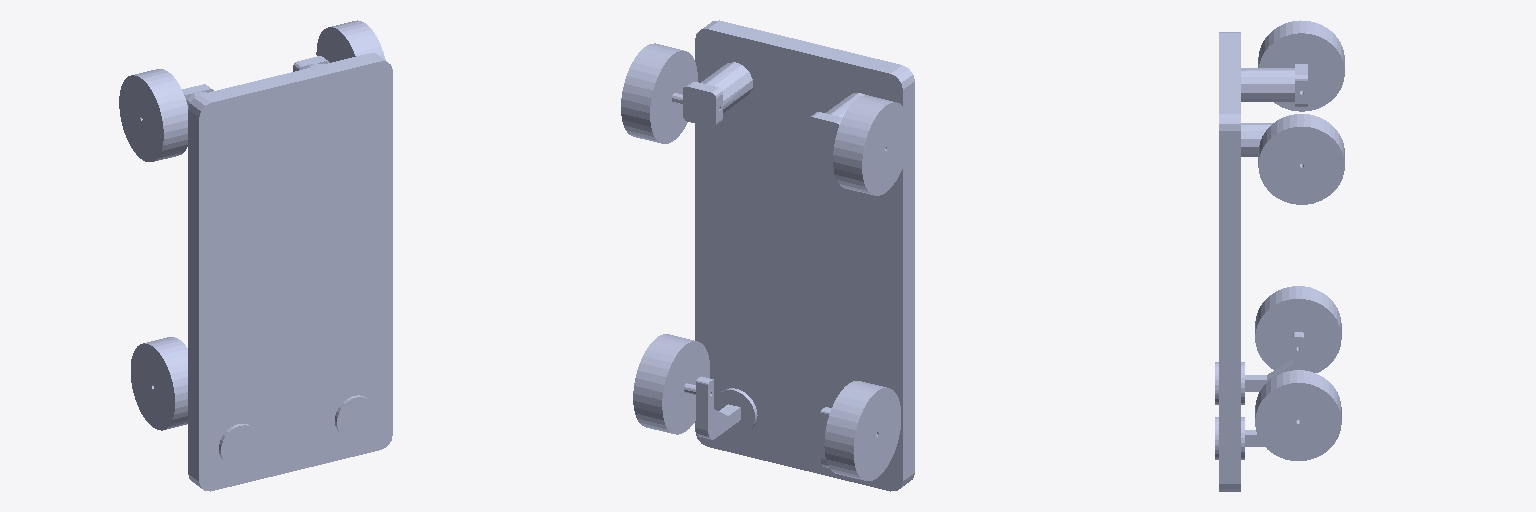
URDF robot description (robot_1):
<?xml version="1.0" encoding="utf-8"?>
<!-- This URDF was automatically created by SolidWorks to URDF Exporter! Originally created by [author] ([email redacted]) 
     Commit Version: 1.6.0-1-g15f4949  Build Version: 1.6.7594.29634
     For more information, please see http://wiki.ros.org/sw_urdf_exporter -->
<robot
  name="robot_1">
  <link name = "dummy_link" />
  <joint 
    name = "dummy_link_to_base_link" 
    type = "fixed">
    <parent link ="dummy_link"/>
    <child link="base_link" />
  </joint>
    
  <transmission name="steer_left">
    <type>transmission_interface/SimpleTransmission</type>
    <joint name="steer_left">
      <hardwareInterface>hardware_interface/EffortJointInterface</hardwareInterface>
    </joint>
      <actuator name="rear_left_actuator">
        <mechanicalReduction>1</mechanicalReduction>
        <hardwareInterface>hardware_interface/EffortJointInterface</hardwareInterface>
      </actuator>
  </transmission>
     
  <transmission name="steer_right">
    <type>transmission_interface/SimpleTransmission</type>
    <joint name="steer_right">
      <hardwareInterface>hardware_interface/EffortJointInterface</hardwareInterface>
    </joint>
    <actuator name="rear_right_actuator">
      <mechanicalReduction>1</mechanicalReduction>
      <hardwareInterface>hardware_interface/EffortJointInterface</hardwareInterface>
    </actuator>
  </transmission>
  
  
  <transmission name="rear_left">
    <type>transmission_interface/SimpleTransmission</type>
    <joint name="rotary_left">
      <hardwareInterface>hardware_interface/VelocityJointInterface</hardwareInterface>
    </joint>
      <actuator name="rotary_left_actuator">
        <mechanicalReduction>1</mechanicalReduction>
        <hardwareInterface>hardware_interface/VelocityJointInterface</hardwareInterface>
      </actuator>
  </transmission>
     
  <transmission name="rear_right">
    <type>transmission_interface/SimpleTransmission</type>
    <joint name="rotary_right">
      <hardwareInterface>hardware_interface/VelocityJointInterface</hardwareInterface>
    </joint>
      <actuator name="rotary_right_actuator">
        <mechanicalReduction>1</mechanicalReduction>
        <hardwareInterface>hardware_interface/VelocityJointInterface</hardwareInterface>
      </actuator>
  </transmission>
  
   
  <link
    name="base_link">
    <inertial>
      <origin
        xyz="0.0106243866569402 0.0852521272408004 -0.0317866920082924"
        rpy="0 0 0" />
      <mass
        value="25.0805554983238" />
      <inertia
        ixx="1.99562741974796"
        ixy="9.25360912925372E-16"
        ixz="-6.7823571365805E-17"
        iyy="0.548344997724626"
        iyz="0.0592023746088173"
        izz="2.49405185003044" />
    </inertial>
    <visual>
      <origin
        xyz="0 0 0"
        rpy="0 0 0" />
      <geometry>
        <mesh
          filename="package://robot_1/meshes/base_link.STL" />
      </geometry>
      <material
        name="">
        <color
          rgba="0.792156862745098 0.819607843137255 0.933333333333333 1" />
      </material>
    </visual>
    <collision>
      <origin
        xyz="0 0 0"
        rpy="0 0 0" />
      <geometry>
        <mesh
          filename="package://robot_1/meshes/base_link.STL" />
      </geometry>
    </collision>
  </link>
  <link
    name="rear_left">
    <inertial>
      <origin
        xyz="8.32667268468867E-17 -4.44089209850063E-16 0.0648394004282658"
        rpy="0 0 0" />
      <mass
        value="2.20068565383965" />
      <inertia
        ixx="0.00641184548810948"
        ixy="0"
        ixz="3.64420249209196E-19"
        iyy="0.00641184548810948"
        iyz="-5.25481092951005E-18"
        izz="0.0109959473516919" />
    </inertial>
    <visual>
      <origin
        xyz="0 0 0"
        rpy="0 0 0" />
      <geometry>
        <mesh
          filename="package://robot_1/meshes/rear_left.STL" />
      </geometry>
      <material
        name="">
        <color
          rgba="0.792156862745098 0.819607843137255 0.933333333333333 1" />
      </material>
    </visual>
    <collision>
      <origin
        xyz="0 0 0"
        rpy="0 0 0" />
      <geometry>
        <mesh
          filename="package://robot_1/meshes/rear_left.STL" />
      </geometry>
    </collision>
  </link>
  <joint
    name="rotary_left"
    type="revolute">
    <origin
      xyz="-0.17938 0.19 0.43306"
      rpy="1.5708 0.11294 -1.5708" />
    <parent
      link="base_link" />
    <child
      link="rear_left" />
    <axis
      xyz="0 0 1" />
    <limit
      lower="-1000000"
      upper="1000000"
      effort="10"
      velocity="100" />
  </joint>
  <link
    name="rear_right">
    <inertial>
      <origin
        xyz="0 0 0.0648394004282658"
        rpy="0 0 0" />
      <mass
        value="2.20068565383965" />
      <inertia
        ixx="0.00641184548810948"
        ixy="-5.42101086242752E-19"
        ixz="-4.7252406288901E-18"
        iyy="0.00641184548810948"
        iyz="1.328849025911E-18"
        izz="0.0109959473516919" />
    </inertial>
    <visual>
      <origin
        xyz="0 0 0"
        rpy="0 0 0" />
      <geometry>
        <mesh
          filename="package://robot_1/meshes/rear_right.STL" />
      </geometry>
      <material
        name="">
        <color
          rgba="0.792156862745098 0.819607843137255 0.933333333333333 1" />
      </material>
    </visual>
    <collision>
      <origin
        xyz="0 0 0"
        rpy="0 0 0" />
      <geometry>
        <mesh
          filename="package://robot_1/meshes/rear_right.STL" />
      </geometry>
    </collision>
  </link>
  <joint
    name="rotary_right"
    type="revolute">
    <origin
      xyz="0.20062 0.19 0.43306"
      rpy="1.5708 1.2919 1.5708" />
    <parent
      link="base_link" />
    <child
      link="rear_right" />
    <axis
      xyz="0 0 1" />
    <limit
      lower="-1000000"
      upper="1000000"
      effort="10"
      velocity="100" />
  </joint>
  <link
    name="vertical_left">
    <inertial>
      <origin
        xyz="0 0.0102813138093797 0.0696600330079089"
        rpy="0 0 0" />
      <mass
        value="0.639934698133308" />
      <inertia
        ixx="0.00341195149379141"
        ixy="-4.09553293302807E-19"
        ixz="-4.93655903399071E-19"
        iyy="0.00299511296011922"
        iyz="-0.000711836821973023"
        izz="0.00084897915232629" />
    </inertial>
    <visual>
      <origin
        xyz="0 0 0"
        rpy="0 0 0" />
      <geometry>
        <mesh
          filename="package://robot_1/meshes/vertical_left.STL" />
      </geometry>
      <material
        name="">
        <color
          rgba="0.792156862745098 0.819607843137255 0.933333333333333 1" />
      </material>
    </visual>
    <collision>
      <origin
        xyz="0 0 0"
        rpy="0 0 0" />
      <geometry>
        <mesh
          filename="package://robot_1/meshes/vertical_left.STL" />
      </geometry>
    </collision>
  </link>
  <joint
    name="steer_left"
    type="revolute">
    <origin
      xyz="-0.13938 0 -0.32694"
      rpy="1.5708 0 3.1416" />
    <parent
      link="base_link" />
    <child
      link="vertical_left" />
    <axis
      xyz="0 0 1" />
    <limit
      lower="-0.785398"
      upper="0.785398"
      effort="10"
      velocity="100" />
  </joint>
  <link
    name="front_left">
    <inertial>
      <origin
        xyz="1.11022302462516E-16 1.11022302462516E-16 0.0648394004282658"
        rpy="0 0 0" />
      <mass
        value="2.20068565383965" />
      <inertia
        ixx="0.00641184548810947"
        ixy="4.33680868994202E-19"
        ixz="1.85547375152391E-18"
        iyy="0.00641184548810947"
        iyz="3.22474202483583E-18"
        izz="0.0109959473516919" />
    </inertial>
    <visual>
      <origin
        xyz="0 0 0"
        rpy="0 0 0" />
      <geometry>
        <mesh
          filename="package://robot_1/meshes/front_left.STL" />
      </geometry>
      <material
        name="">
        <color
          rgba="0.792156862745098 0.819607843137255 0.933333333333333 1" />
      </material>
    </visual>
    <collision>
      <origin
        xyz="0 0 0"
        rpy="0 0 0" />
      <geometry>
        <mesh
          filename="package://robot_1/meshes/front_left.STL" />
      </geometry>
    </collision>
  </link>
  <joint
    name="castor_left"
    type="revolute">
    <origin
      xyz="0.015 0.095 0.1825"
      rpy="-1.5708 -1.0471 -1.5708" />
    <parent
      link="vertical_left" />
    <child
      link="front_left" />
    <axis
      xyz="0 0 1" />
    <limit
      lower="-100000"
      upper="100000"
      effort="10"
      velocity="100" />
  </joint>
  <link
    name="vertical_right">
    <inertial>
      <origin
        xyz="-2.77555756156289E-17 0.0102813138093797 0.0696600330079089"
        rpy="0 0 0" />
      <mass
        value="0.639934698133308" />
      <inertia
        ixx="0.00341195149379141"
        ixy="-3.55508299671983E-19"
        ixz="-6.87848264443758E-19"
        iyy="0.00299511296011922"
        iyz="-0.000711836821973023"
        izz="0.000848979152326289" />
    </inertial>
    <visual>
      <origin
        xyz="0 0 0"
        rpy="0 0 0" />
      <geometry>
        <mesh
          filename="package://robot_1/meshes/vertical_right.STL" />
      </geometry>
      <material
        name="">
        <color
          rgba="0.792156862745098 0.819607843137255 0.933333333333333 1" />
      </material>
    </visual>
    <collision>
      <origin
        xyz="0 0 0"
        rpy="0 0 0" />
      <geometry>
        <mesh
          filename="package://robot_1/meshes/vertical_right.STL" />
      </geometry>
    </collision>
  </link>
  <joint
    name="steer_right"
    type="revolute">
    <origin
      xyz="0.16062 0 -0.32694"
      rpy="1.5708 0 3.1416" />
    <parent
      link="base_link" />
    <child
      link="vertical_right" />
    <axis
      xyz="0 0 1" />
    <limit
      lower="-0.785398"
      upper="0.785398"
      effort="10"
      velocity="100" />
  </joint>
  <link
    name="front_right">
    <inertial>
      <origin
        xyz="5.55111512312578E-17 0 0.0648394004282658"
        rpy="0 0 0" />
      <mass
        value="2.20068565383965" />
      <inertia
        ixx="0.00641184548810948"
        ixy="-1.0842021724855E-18"
        ixz="4.1079946180896E-18"
        iyy="0.00641184548810948"
        iyz="1.99172042983547E-18"
        izz="0.0109959473516919" />
    </inertial>
    <visual>
      <origin
        xyz="0 0 0"
        rpy="0 0 0" />
      <geometry>
        <mesh
          filename="package://robot_1/meshes/front_right.STL" />
      </geometry>
      <material
        name="">
        <color
          rgba="0.792156862745098 0.819607843137255 0.933333333333333 1" />
      </material>
    </visual>
    <collision>
      <origin
        xyz="0 0 0"
        rpy="0 0 0" />
      <geometry>
        <mesh
          filename="package://robot_1/meshes/front_right.STL" />
      </geometry>
    </collision>
  </link>
  <joint
    name="castor_right"
    type="revolute">
    <origin
      xyz="-0.015 0.095 0.1825"
      rpy="-1.5708 -0.46547 1.5708" />
    <parent
      link="vertical_right" />
    <child
      link="front_right" />
    <axis
      xyz="0 0 1" />
    <limit
      lower="-1000000"
      upper="1000000"
      effort="10"
      velocity="100" />
  </joint>
</robot>

--- Render facts (derived) ---
3 views of the same robot in one strip: view 1: azimuth 30°, elevation 25°; view 2: azimuth 150°, elevation 25°; view 3: azimuth 270°, elevation 25° (orthographic).
Robot: robot_1 — 8 links, 7 joints (6 revolute, 1 fixed); root link dummy_link; default pose: every joint at zero.
Visible links, largest first — view 1: base_link, rear_left, front_left, rear_right, vertical_left, vertical_right; view 2: base_link, rear_left, front_left, front_right, rear_right, vertical_right; view 3: base_link, front_right, rear_right, front_left, rear_left, vertical_left, vertical_right.
Link boxes in pixels (x1,y1,x2,y2): base_link: (182,53,392,491); rear_left: (119,69,187,161); front_left: (131,337,187,430); rear_right: (316,20,385,62); vertical_left: (219,424,259,466); vertical_right: (335,395,375,437); base_link: (683,20,914,491); rear_left: (833,95,909,195); front_left: (824,381,900,480); front_right: (633,334,709,434); rear_right: (621,43,697,143); vertical_right: (696,376,757,439); base_link: (1219,32,1307,491); front_right: (1255,370,1341,460); rear_right: (1258,114,1344,204); front_left: (1255,286,1341,372); rear_left: (1258,20,1344,111); vertical_left: (1215,332,1303,404); vertical_right: (1215,417,1264,459).
Size in the robot's own frame: 0.58 by 0.3 by 0.96 metres.
Meshes: 7 distinct files referenced, 7 mesh visuals loaded (7 binary STL).